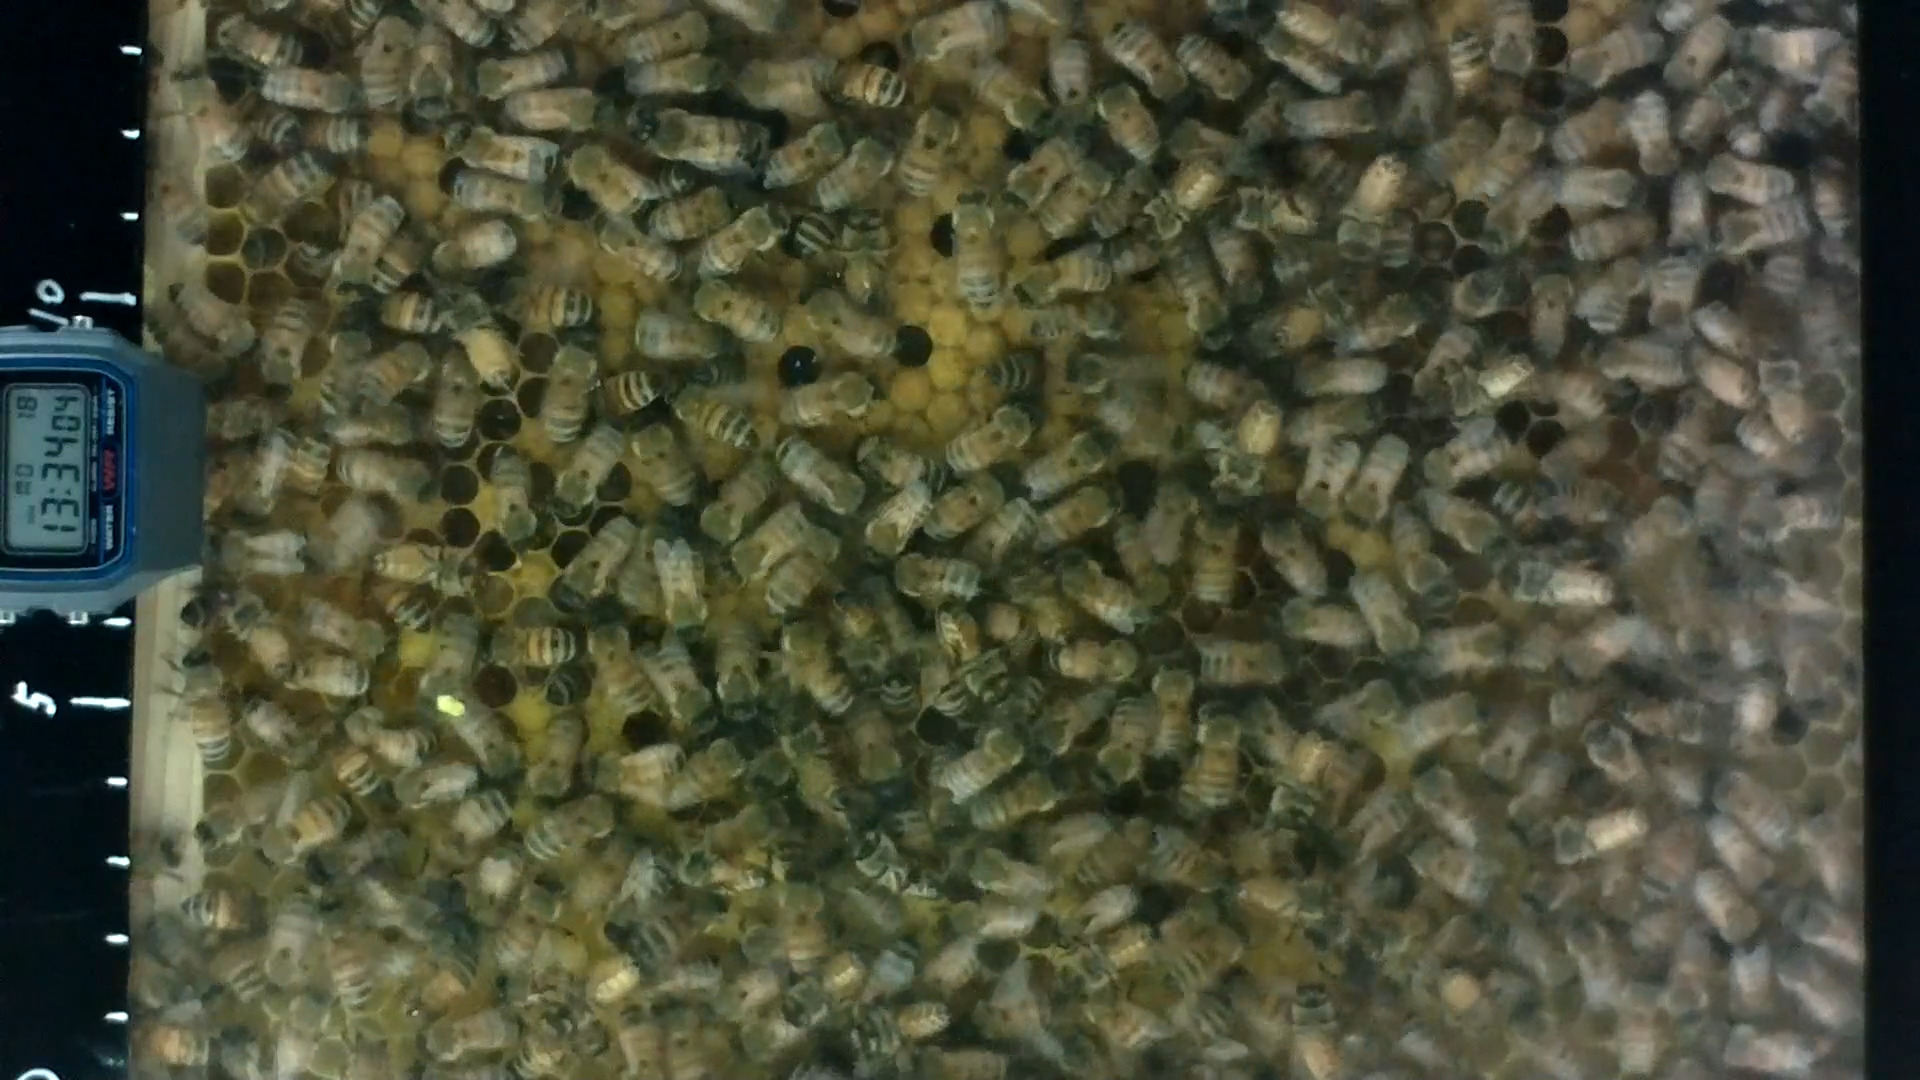hati: (771, 616, 860, 719), (945, 196, 1007, 335), (771, 431, 866, 520), (1054, 547, 1145, 636), (545, 516, 634, 604), (793, 286, 895, 363), (1254, 508, 1337, 600), (625, 415, 702, 516), (1096, 22, 1193, 100), (669, 380, 764, 459), (442, 124, 560, 186), (476, 443, 545, 549), (640, 638, 711, 740), (521, 793, 621, 862), (440, 170, 560, 228), (641, 109, 756, 170), (330, 448, 435, 513), (560, 142, 645, 222), (477, 621, 588, 680), (690, 282, 787, 349), (203, 527, 315, 585), (1030, 423, 1121, 495), (372, 545, 491, 599), (1191, 508, 1245, 626), (262, 297, 327, 396), (261, 803, 357, 869), (179, 654, 235, 767), (1013, 249, 1116, 309), (363, 11, 421, 115), (1348, 425, 1407, 526), (245, 154, 330, 225), (764, 123, 852, 189), (895, 5, 1007, 57), (887, 555, 1002, 605), (1087, 700, 1154, 785), (433, 351, 491, 446), (496, 280, 600, 332), (940, 731, 1023, 796), (1091, 84, 1156, 167), (1311, 676, 1399, 738), (1269, 601, 1371, 654), (1183, 634, 1291, 684), (1196, 707, 1245, 816), (948, 411, 1034, 473), (1400, 694, 1485, 756), (502, 94, 618, 138), (1046, 632, 1141, 684), (899, 104, 953, 196), (545, 340, 592, 444), (237, 703, 318, 764), (618, 58, 725, 100), (647, 193, 735, 244), (781, 378, 872, 423), (253, 69, 361, 105), (414, 24, 454, 124), (468, 53, 564, 92)
